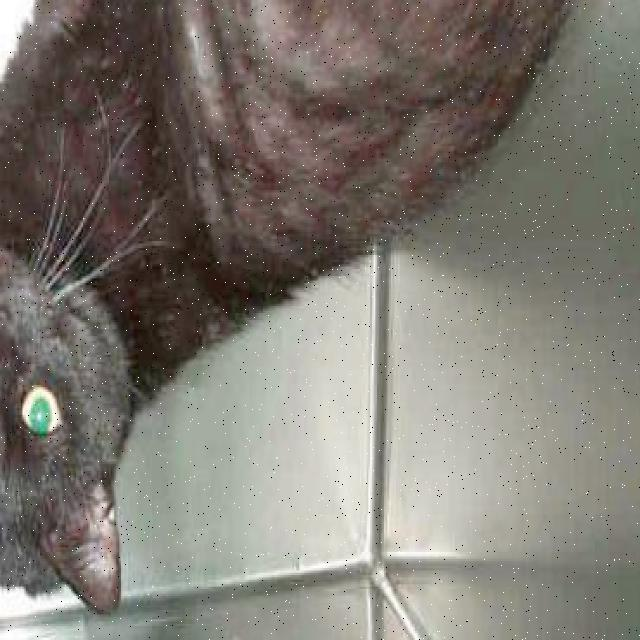Cat: (0, 218, 133, 631)
